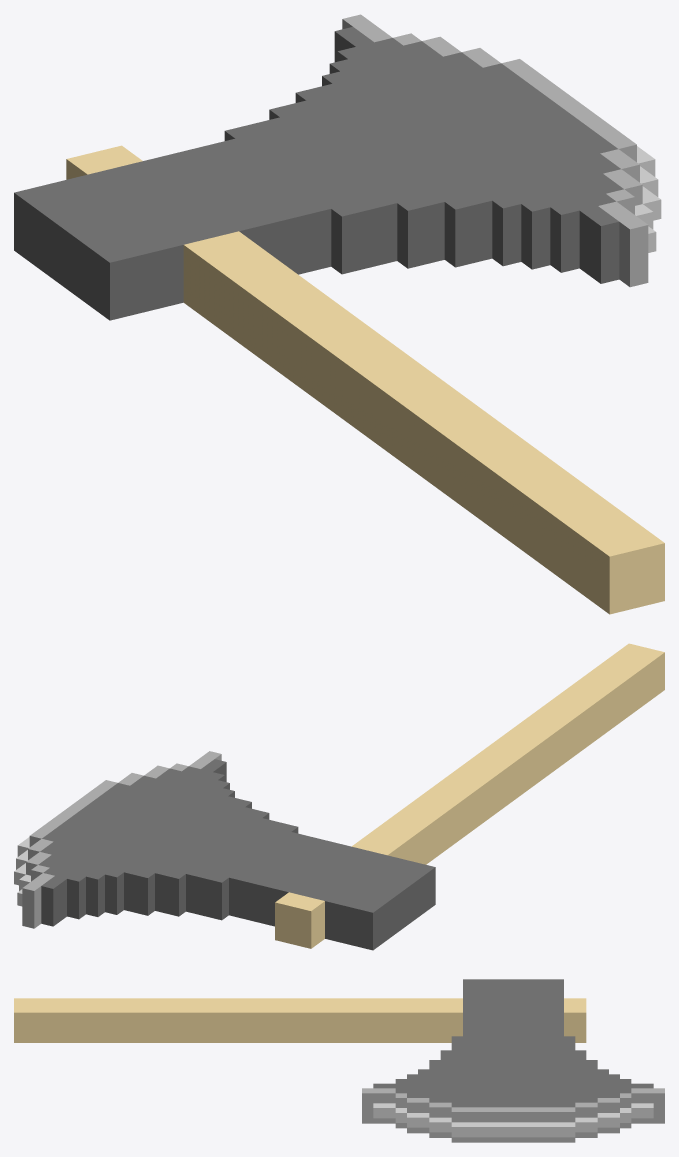
Rendered from axe.obj.
3 views of the same model, one above another, from view 1: azimuth 30°, elevation 25°; view 2: azimuth 150°, elevation 25°; view 3: azimuth 270°, elevation 25° (orthographic). The views are drawn at different scales.
Bounding box in the file's own units: 29 × 3 × 58.
Materials: 1 (1 with a texture image).
